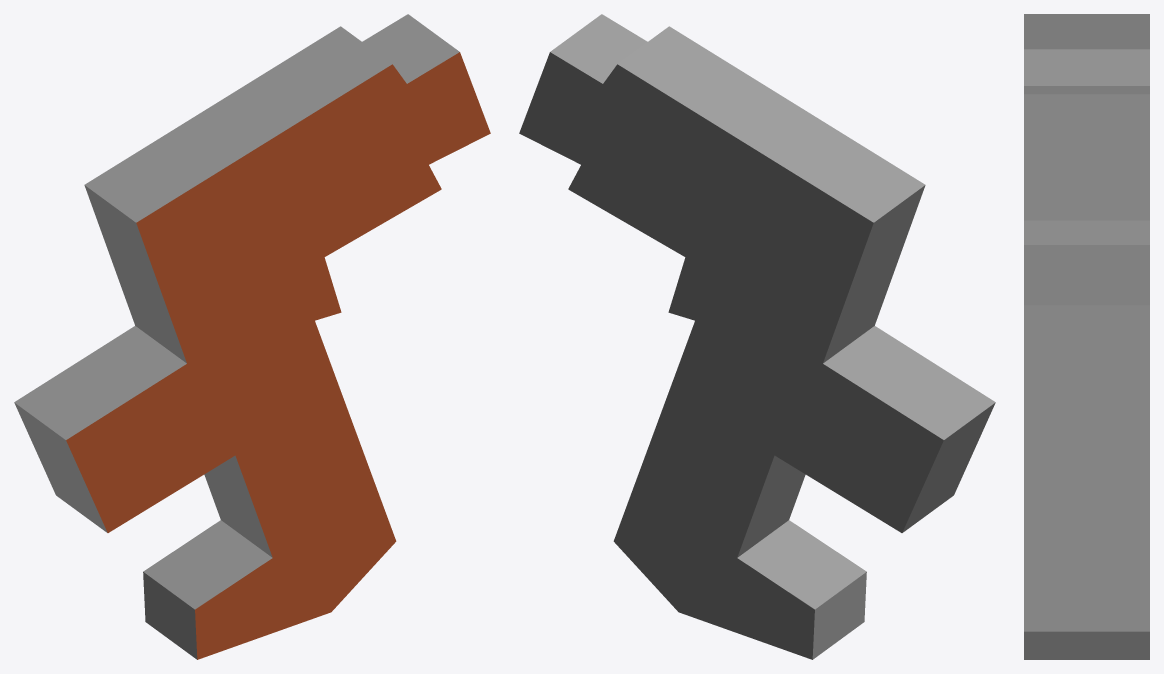
Rendered from construction_3085_assumed_A_Casa_h6m.obj.
The picture shows the model from 3 angles, left to right: view 1: azimuth 30°, elevation 25°; view 2: azimuth 150°, elevation 25°; view 3: azimuth 270°, elevation 25°; orthographic projection. The views are drawn at different scales.
Visible parts, largest first — view 1: construction_3085_assumed_A_Casa; view 2: construction_3085_assumed_A_Casa; view 3: construction_3085_assumed_A_Casa.
Part boxes in pixels (x1,y1,x2,y2): construction_3085_assumed_A_Casa: (14, 14, 490, 659); construction_3085_assumed_A_Casa: (519, 14, 995, 659); construction_3085_assumed_A_Casa: (1024, 14, 1149, 659).
Bounding box in the file's own units: 28.37 × 34.97 × 6.
